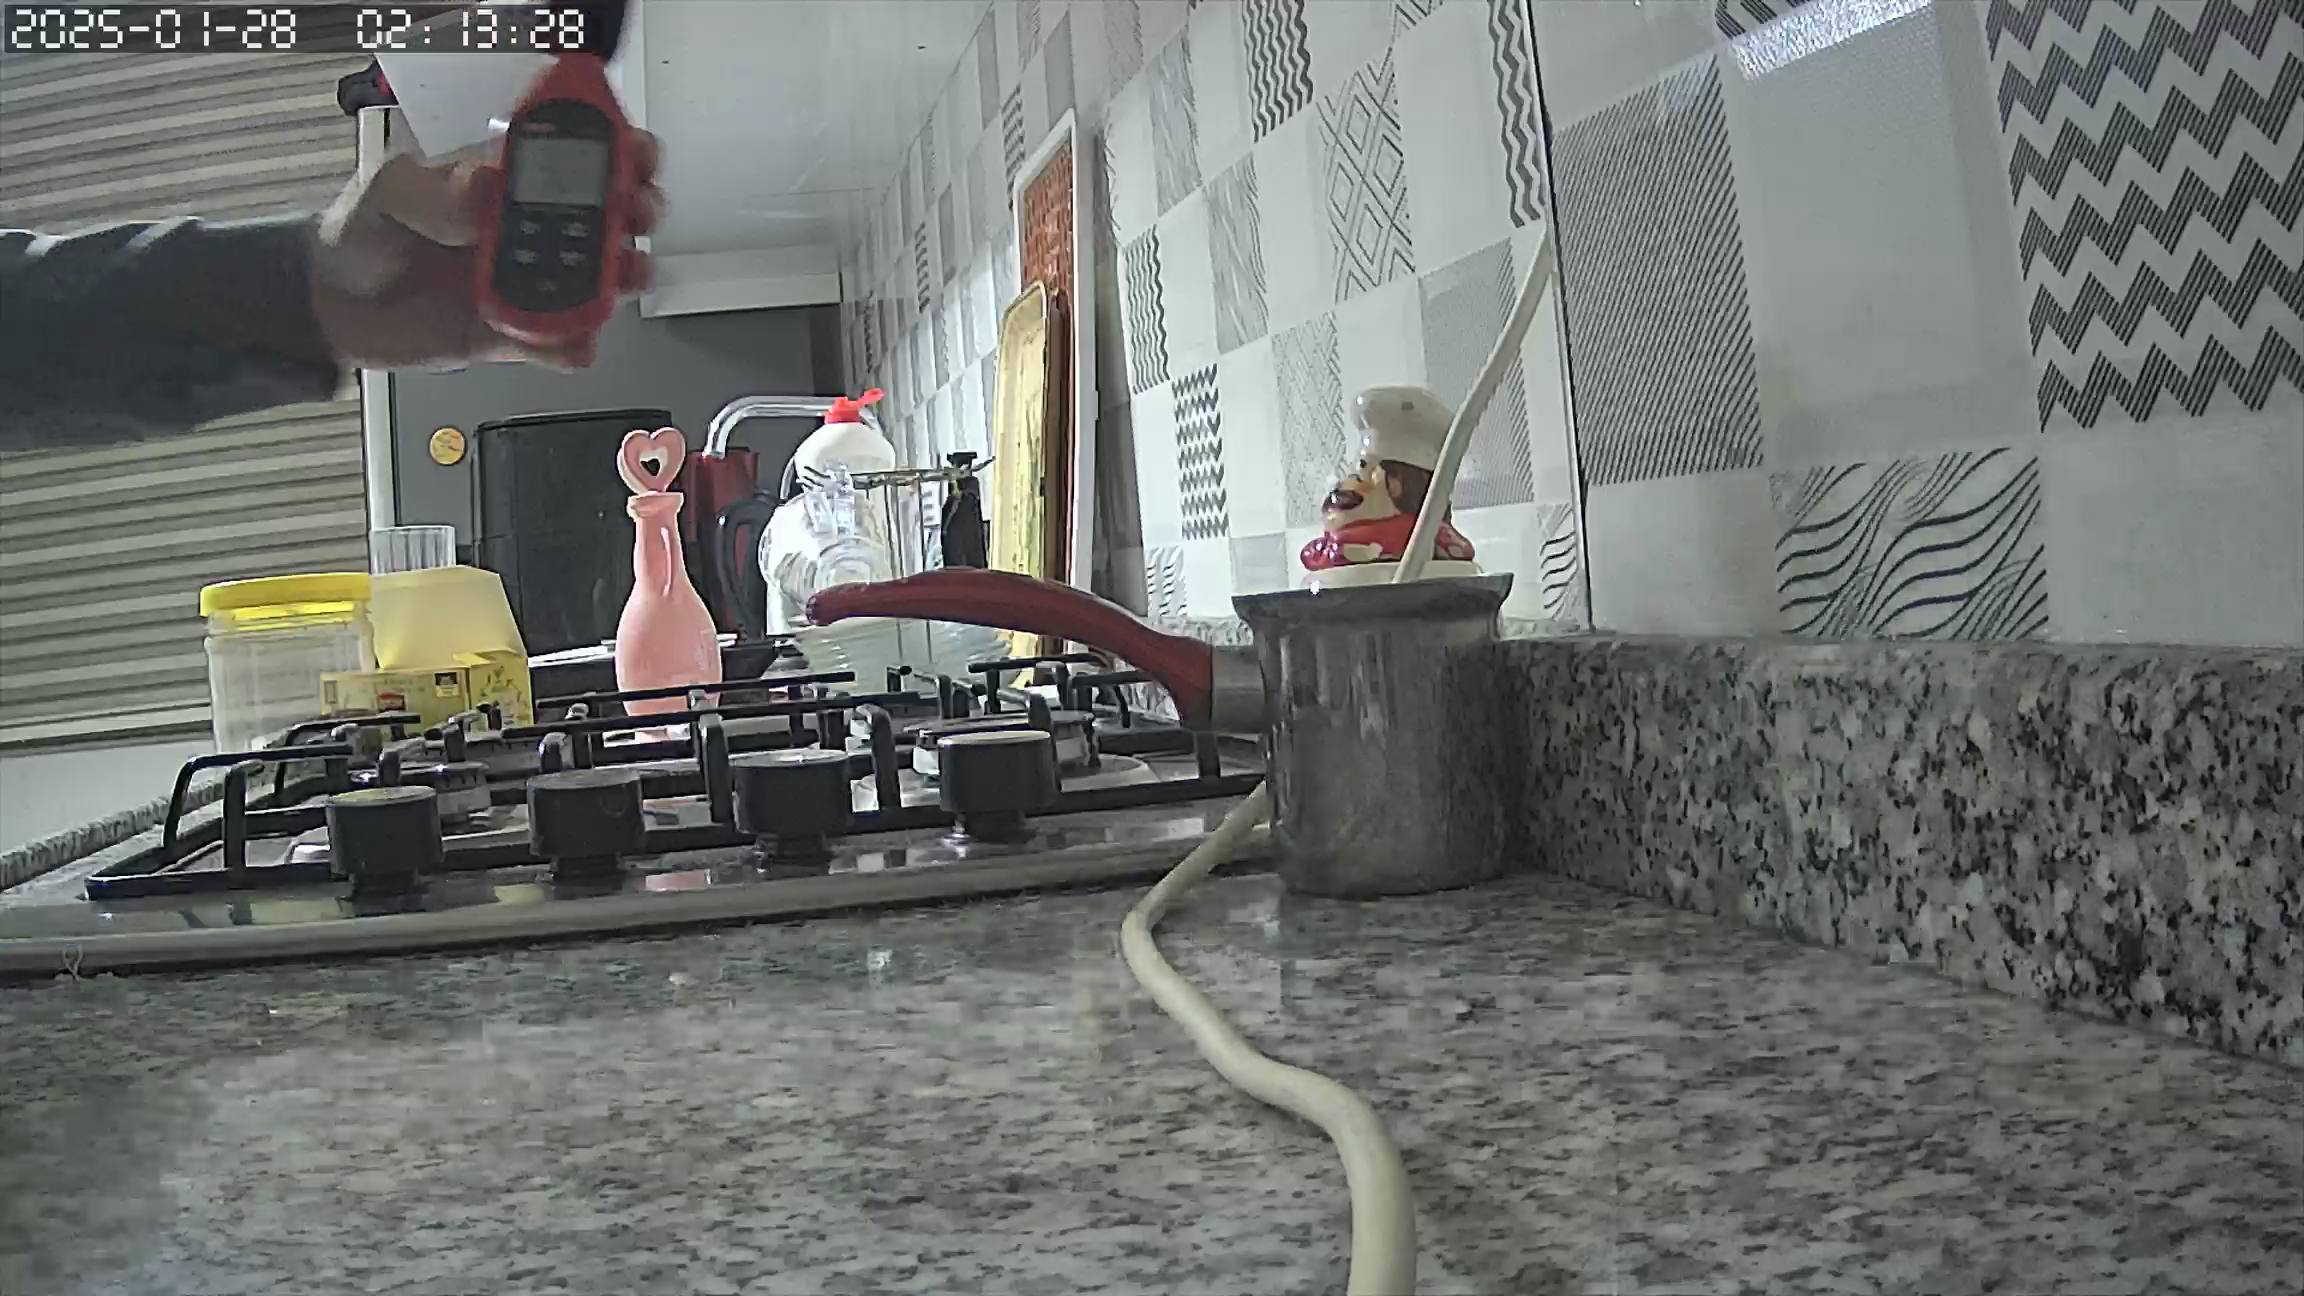screen: (514, 139, 604, 206)
